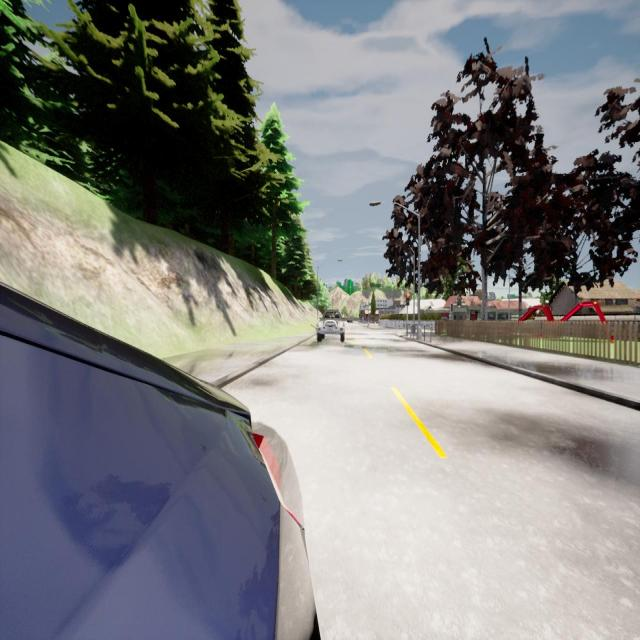Vehicle: (0, 283, 317, 638), (316, 309, 346, 342), (347, 317, 352, 323)
traffic_light: (406, 292, 410, 305), (451, 303, 454, 312)
